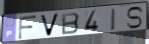4: (83, 9, 101, 34)
B: (61, 11, 81, 36)
F: (17, 15, 38, 41)
I: (111, 8, 117, 32)
S: (125, 6, 144, 30)
V: (39, 13, 61, 38)
